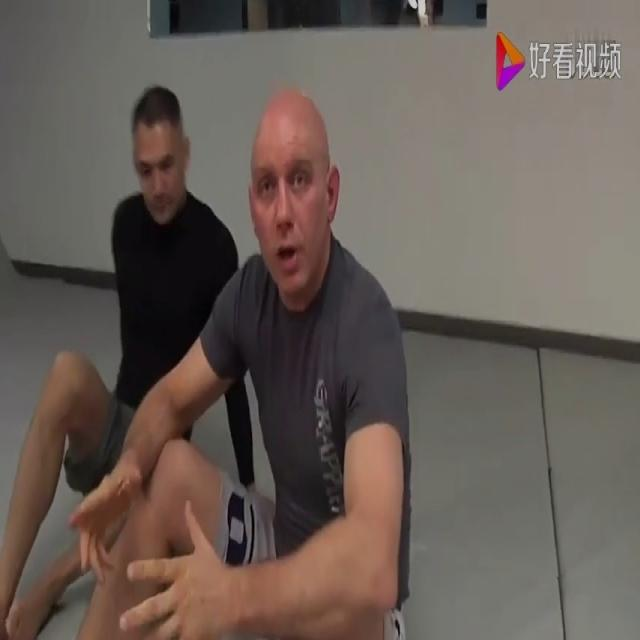non-fight: (70, 72, 420, 640), (3, 81, 254, 640)
